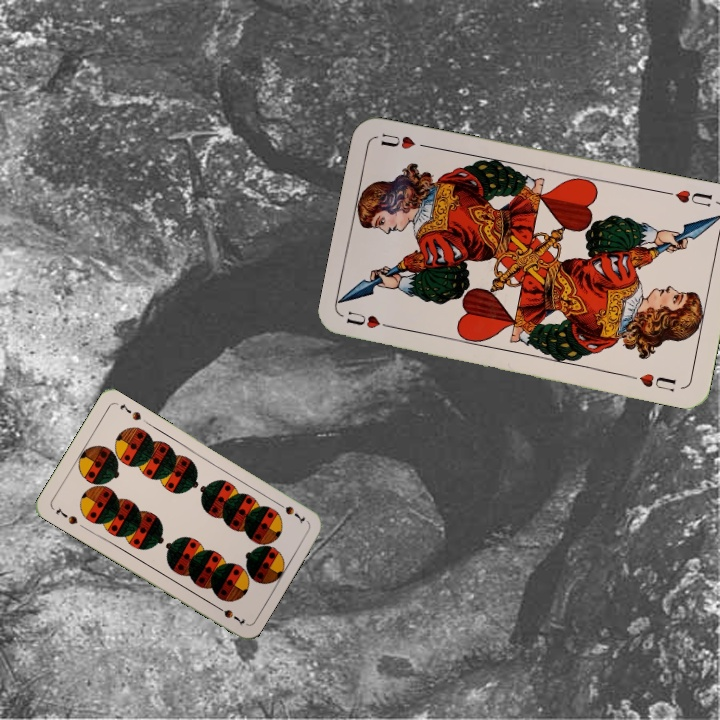HU: (342, 308, 400, 332), (661, 185, 715, 210)
S7: (273, 498, 308, 526), (52, 503, 80, 527)
